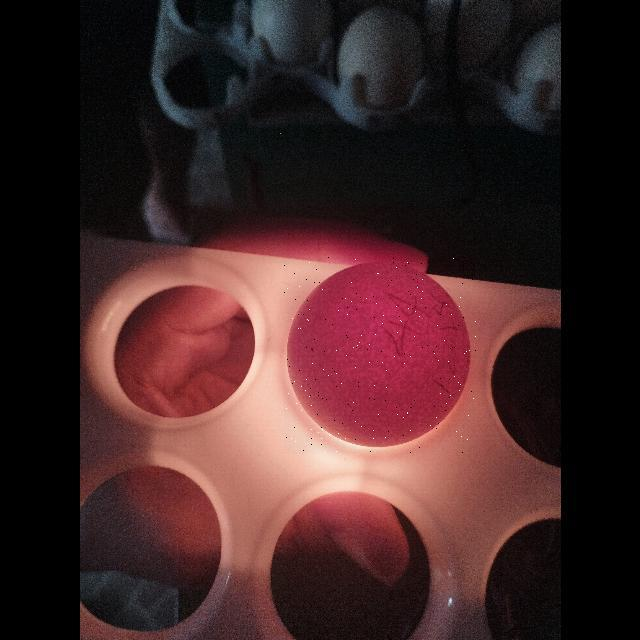Infertile: (284, 256, 476, 454)
